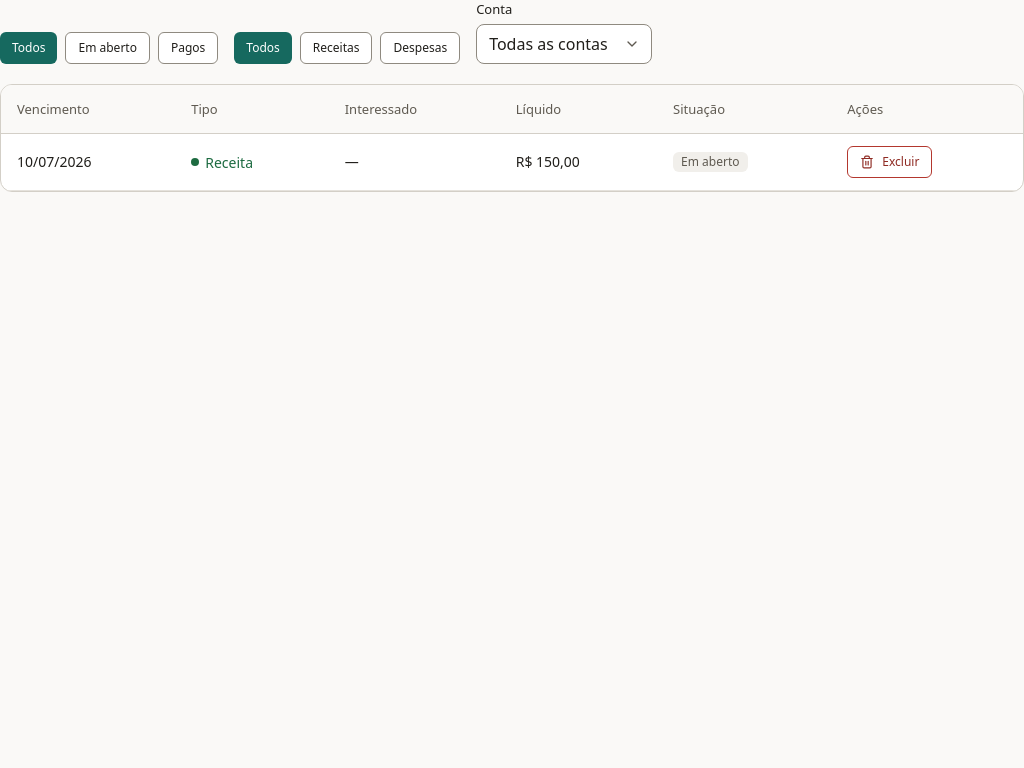
Scenario: Lançamento em período fechado — o dinheiro enviado não se reescreve › deve mostrar a recusa `ciclo_fechado` DENTRO do diálogo de excluir
Click the button "Excluir" at (890, 162), box [847,146,932,178]
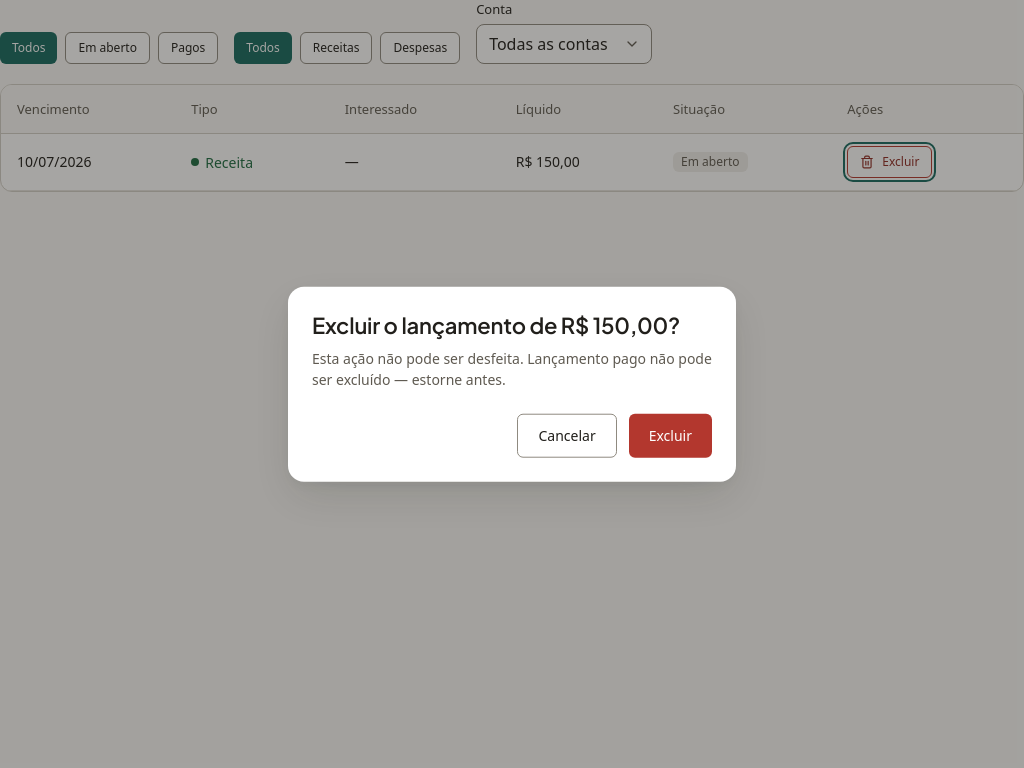
Click the button "Excluir" at (670, 435), box [629,413,712,457]
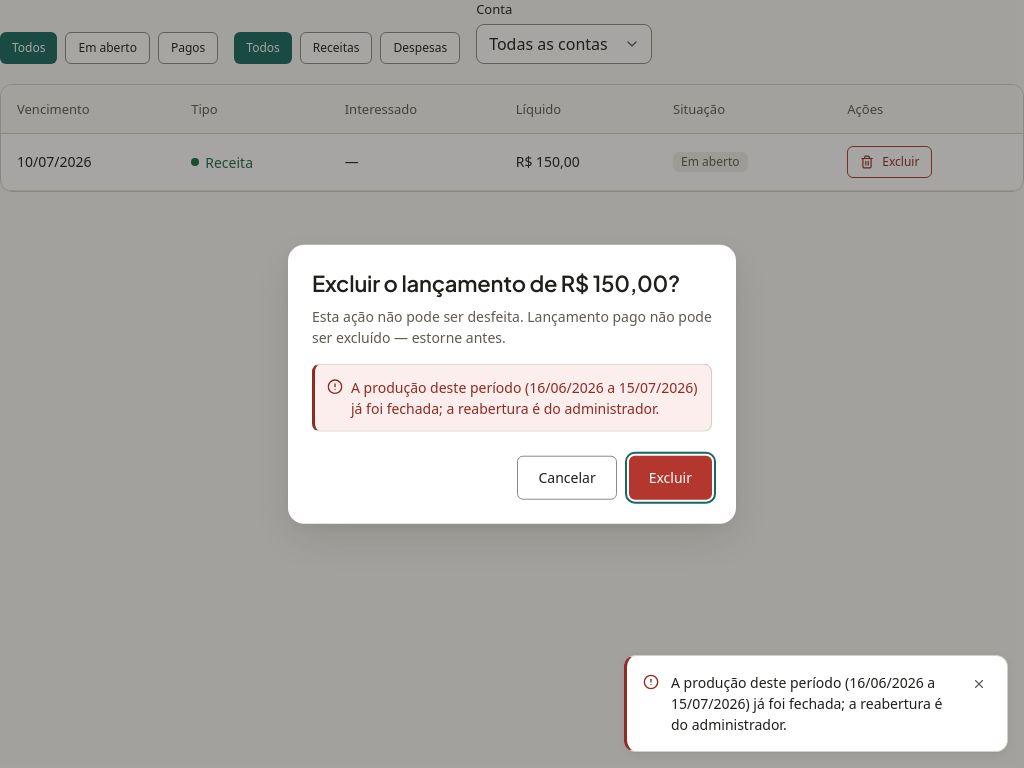
Expected: the text "já foi fechada" below "Excluir o lançamento de" is shown, [351,377,698,417]
